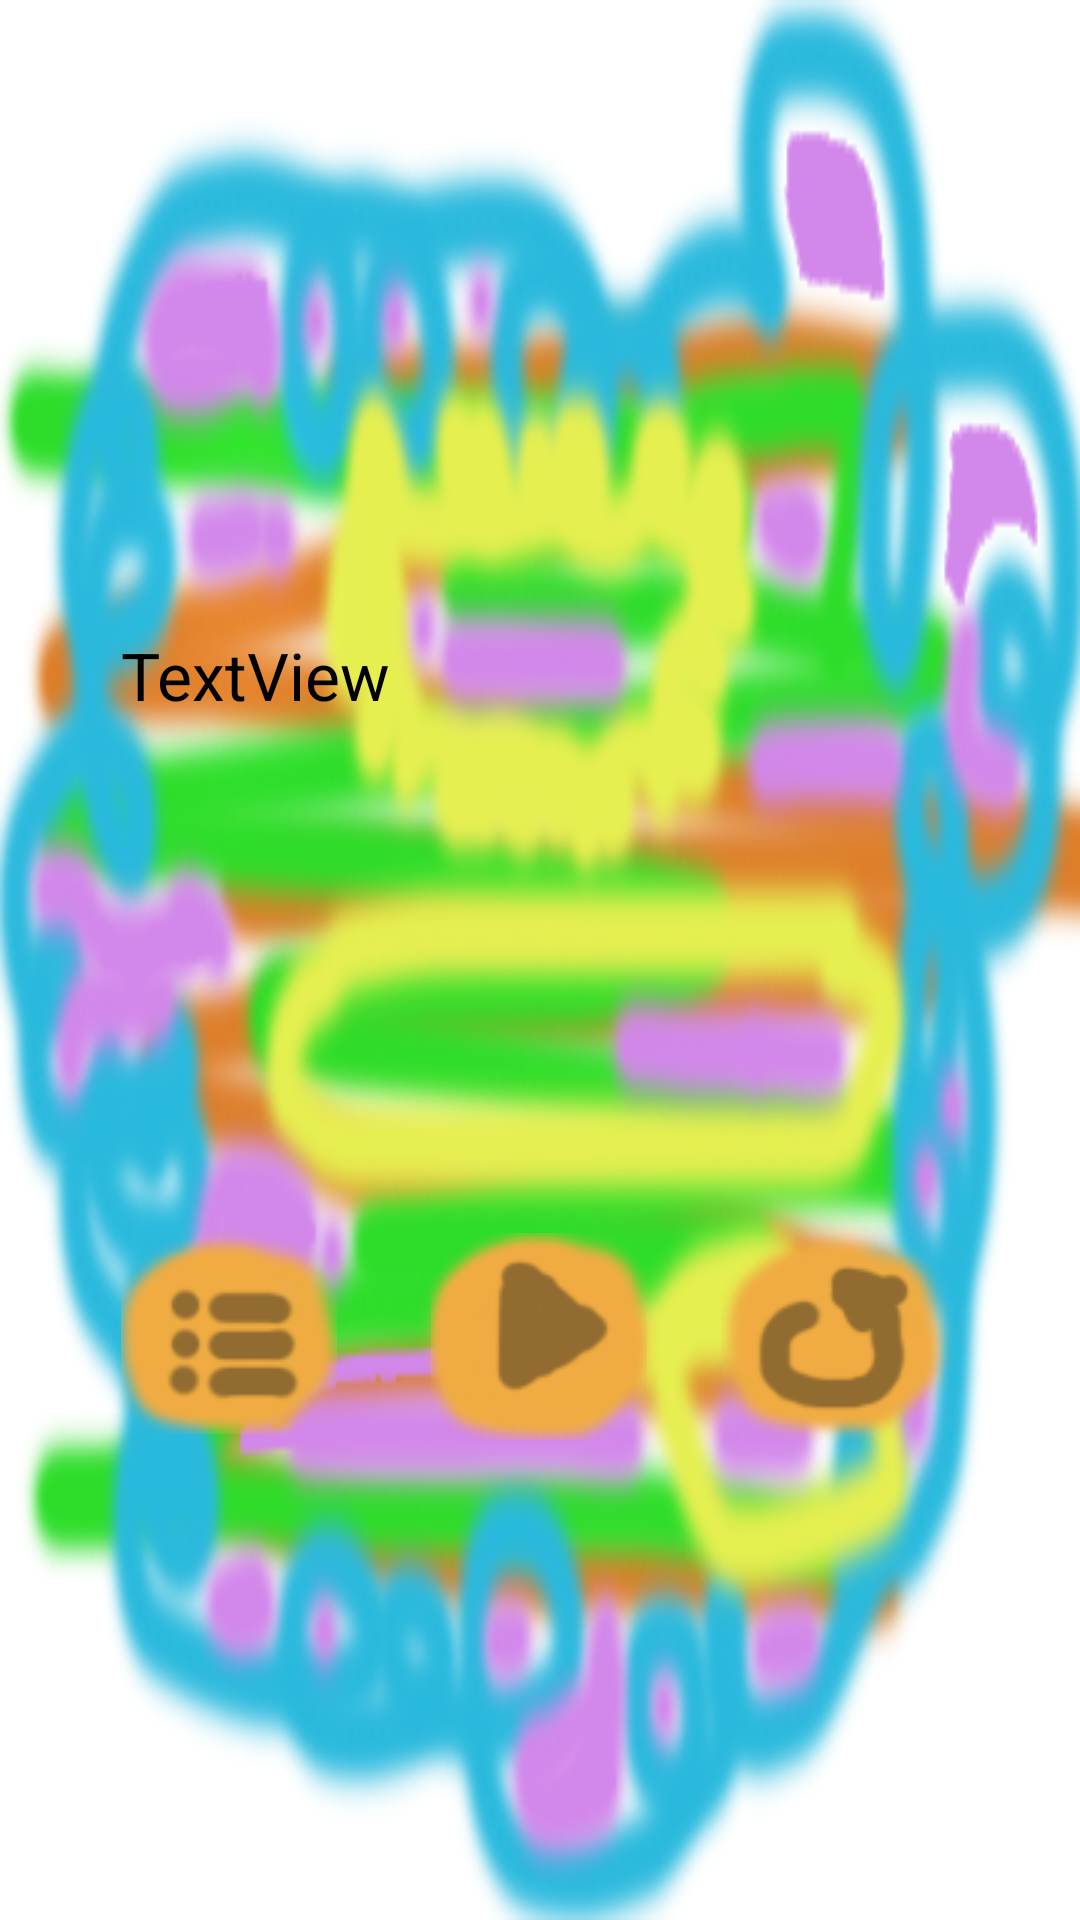

Point at icon controls on the screen. Image size 1080 × 1920, points as (x=x, y=y).
restartbutton: (x=839, y=1336)
selectlevelbutton: (x=229, y=1330)
